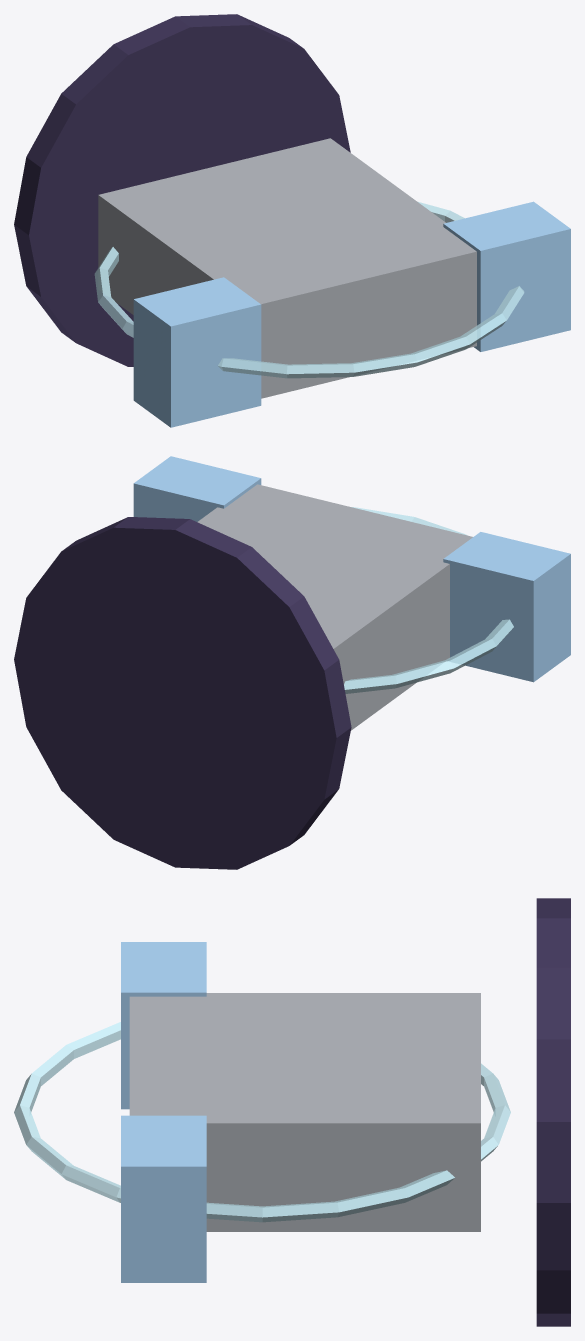
File: 04_high_tier_magic_armor.glb
The picture shows the model from 3 angles, top to bottom: view 1: azimuth 30°, elevation 25°; view 2: azimuth 150°, elevation 25°; view 3: azimuth 270°, elevation 25°; orthographic projection. The views are drawn at different scales.
Visible parts, largest first — view 1: chest_plate, armor_display_base, pauldron_l, pauldron_r, armor_barrier_ring; view 2: armor_display_base, chest_plate, pauldron_l, pauldron_r, armor_barrier_ring; view 3: chest_plate, armor_display_base, pauldron_r, armor_barrier_ring, pauldron_l.
Boxes of the visible parts, x1,y1,x2,y2 form: chest_plate: (98, 138, 476, 398); armor_display_base: (14, 14, 350, 366); pauldron_l: (133, 277, 261, 427); pauldron_r: (443, 201, 570, 351); armor_barrier_ring: (94, 202, 524, 378); armor_display_base: (14, 517, 351, 869); chest_plate: (197, 484, 472, 730); pauldron_l: (443, 532, 570, 682); pauldron_r: (133, 456, 261, 521); armor_barrier_ring: (344, 507, 513, 693); chest_plate: (129, 993, 480, 1231); armor_display_base: (536, 898, 570, 1326); pauldron_r: (121, 1115, 206, 1282); armor_barrier_ring: (14, 1022, 510, 1222); pauldron_l: (121, 942, 206, 1109).
Bounding box in the file's own units: 1.24 × 1 × 1.3.
